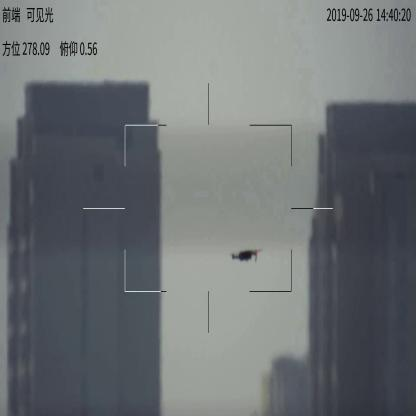uav: (226, 248, 260, 265)
